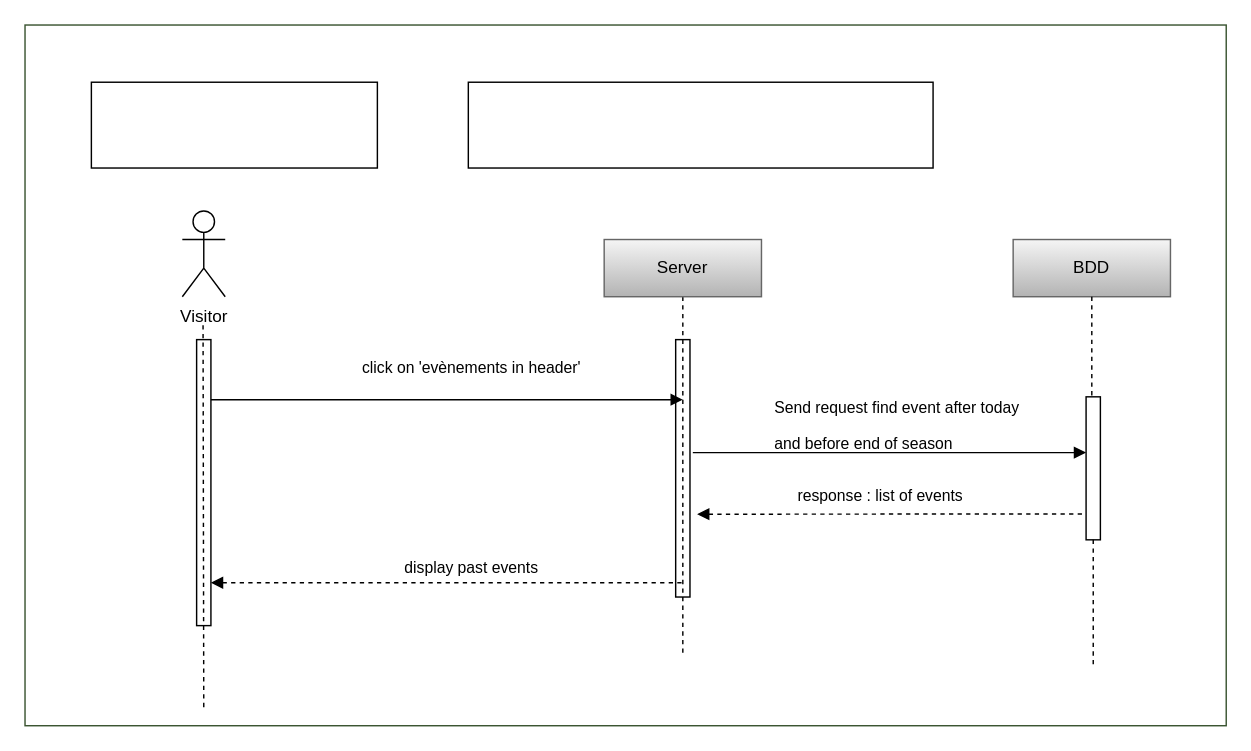
Image size: 1251x751. Some labels were removed from this diagram. Here are the shapes that lost their labels. From the top down, the centre of each, then its label:
At point 233,124: "sequence diagram".
At point 700,124: "See futur events of this season".
